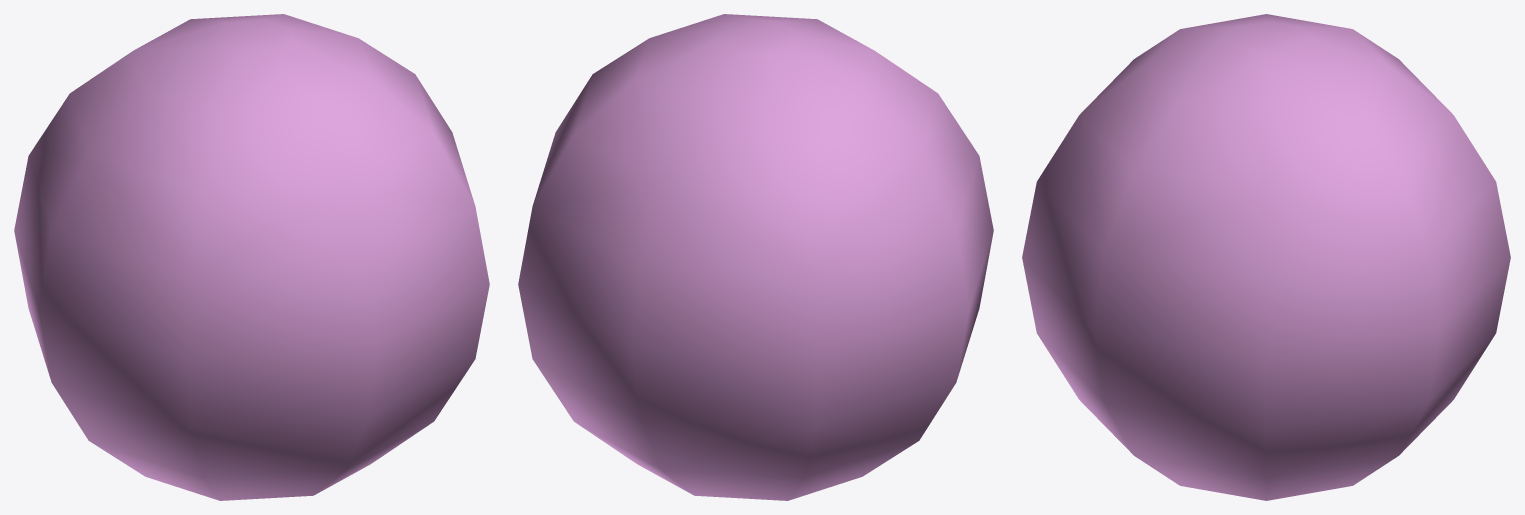
File: aude.hrc.gltf
The picture shows the model from 3 angles, left to right: view 1: azimuth 30°, elevation 25°; view 2: azimuth 150°, elevation 25°; view 3: azimuth 270°, elevation 25°; orthographic projection.
Visible parts, largest first — view 1: audeBone0_null; view 2: audeBone0_null; view 3: audeBone0_null.
Boxes of the visible parts, x1,y1,x2,y2 form: audeBone0_null: (14,14,489,500); audeBone0_null: (518,14,993,500); audeBone0_null: (1022,14,1510,500).
Size of the model in its own units: 4.65 by 4.58 by 4.65.
